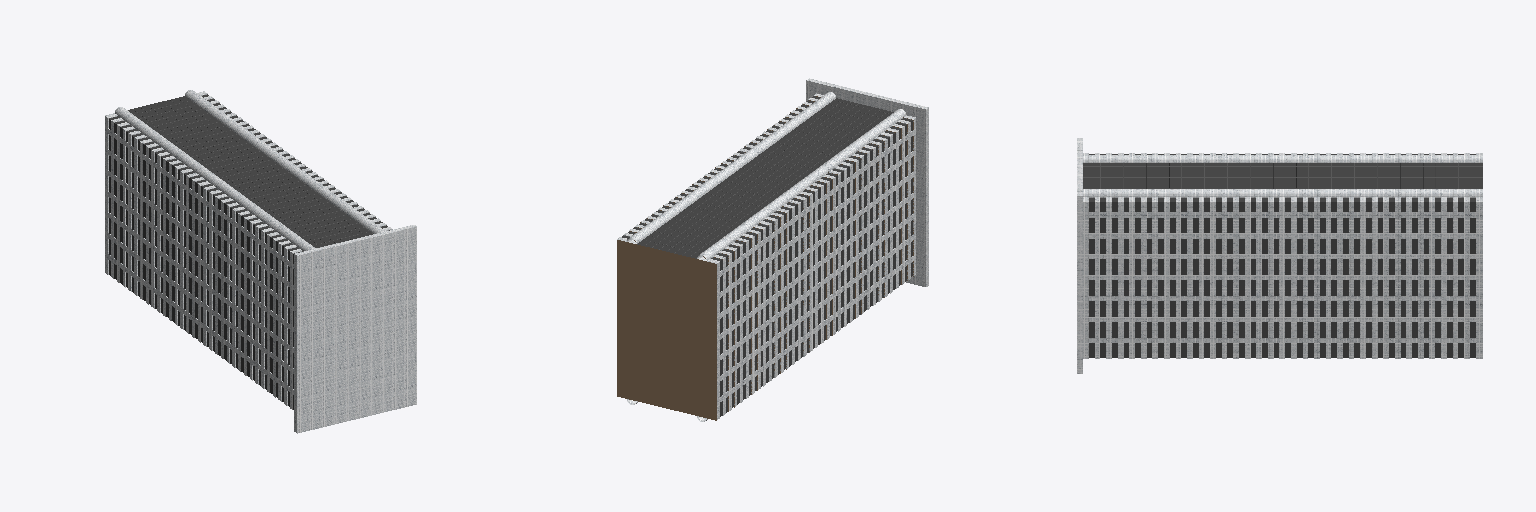
The picture shows the model from 3 angles: view 1: azimuth 30°, elevation 25°; view 2: azimuth 150°, elevation 25°; view 3: azimuth 270°, elevation 25°; orthographic projection.
Parts seen in each view (by area): view 1: Wall_04, Wall_03, Wall_01, Glass_01, Glass_02, Frame_01; view 2: Slab_01, Wall_03, Wall_01, Glass_01, Glass_02, Wall_04, Frame_01; view 3: Wall_03, Glass_01, Wall_01, Glass_02, Frame_01, Wall_02.
Part boxes in pixels (x1,y1,x2,y2): Wall_04: (108,94,416,433); Wall_03: (111,96,416,432); Wall_01: (105,90,385,394); Glass_01: (109,94,389,409); Glass_02: (128,96,372,247); Frame_01: (133,99,366,246); Slab_01: (617,96,913,420); Wall_03: (624,78,928,415); Wall_01: (627,92,915,421); Glass_01: (622,96,912,416); Glass_02: (637,98,893,258); Wall_04: (623,80,925,404); Frame_01: (646,100,888,255); Wall_03: (1077,138,1469,373); Glass_01: (1089,154,1475,357); Wall_01: (1083,155,1482,342); Glass_02: (1083,163,1482,187); Frame_01: (1083,163,1482,188); Wall_02: (1476,153,1482,358).
Bounding box in the file's own units: 1309 × 1855 × 3829.
Materials: 4 (1 with a texture image).